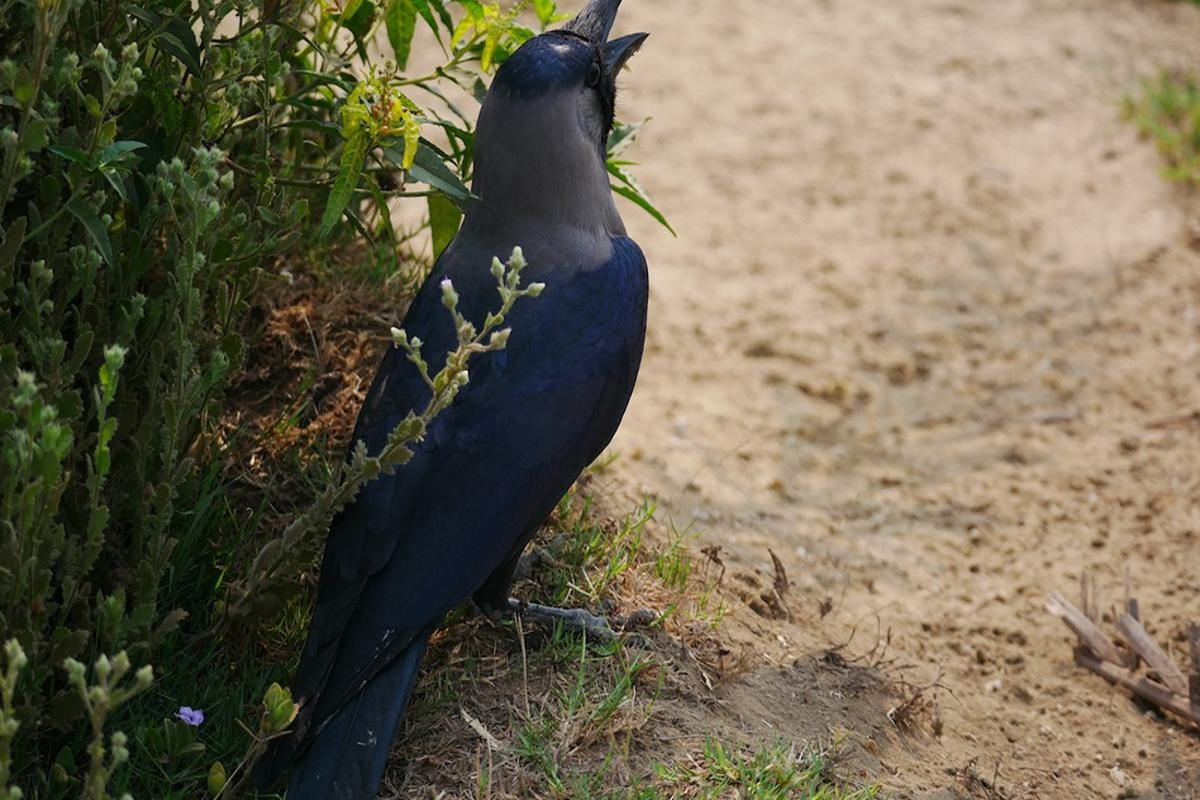crow: (220, 26, 674, 768)
